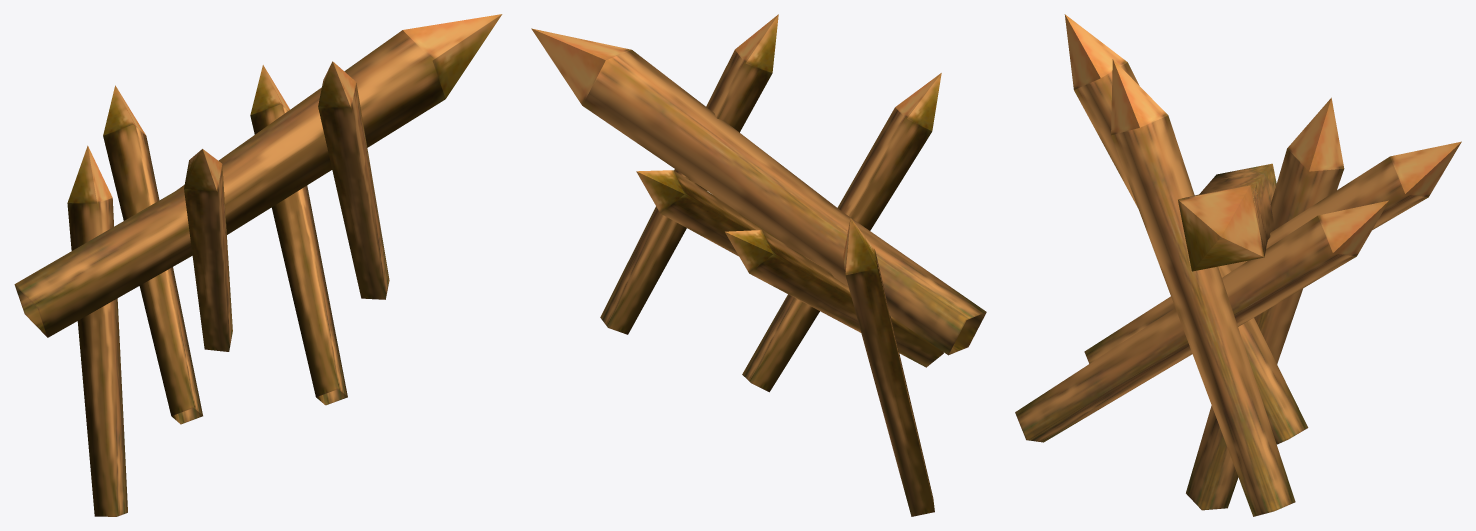
Rendered from sences_changbanpo_wujian001.FBX.
The picture shows the model from 3 angles, left to right: view 1: azimuth 30°, elevation 25°; view 2: azimuth 150°, elevation 25°; view 3: azimuth 270°, elevation 25°; orthographic projection. The views are drawn at different scales.
Visible parts, largest first — view 1: sences_changbanpo_wujian001; view 2: sences_changbanpo_wujian001; view 3: sences_changbanpo_wujian001.
Part boxes in pixels (x1,y1,x2,y2): sences_changbanpo_wujian001: [14, 14, 502, 516]; sences_changbanpo_wujian001: [531, 14, 986, 516]; sences_changbanpo_wujian001: [1015, 14, 1461, 516].
Bounding box in the file's own units: 3.03 × 1.96 × 2.72.
